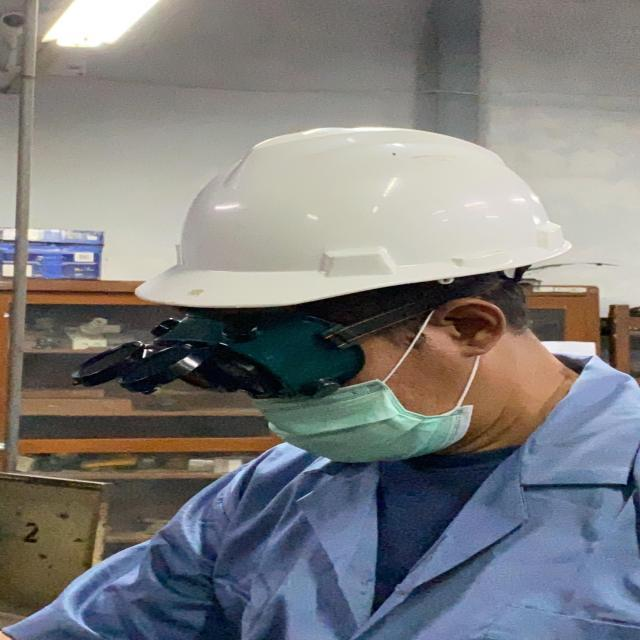glasses: (58, 304, 438, 405)
